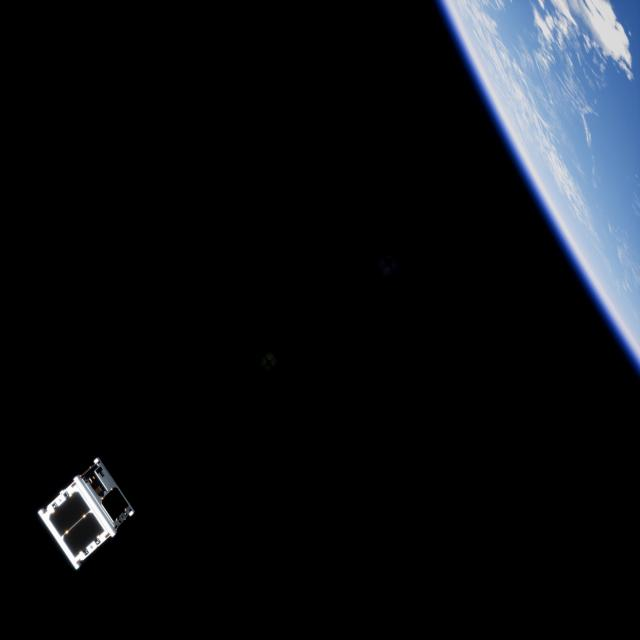satellite: (30, 456, 140, 577)
